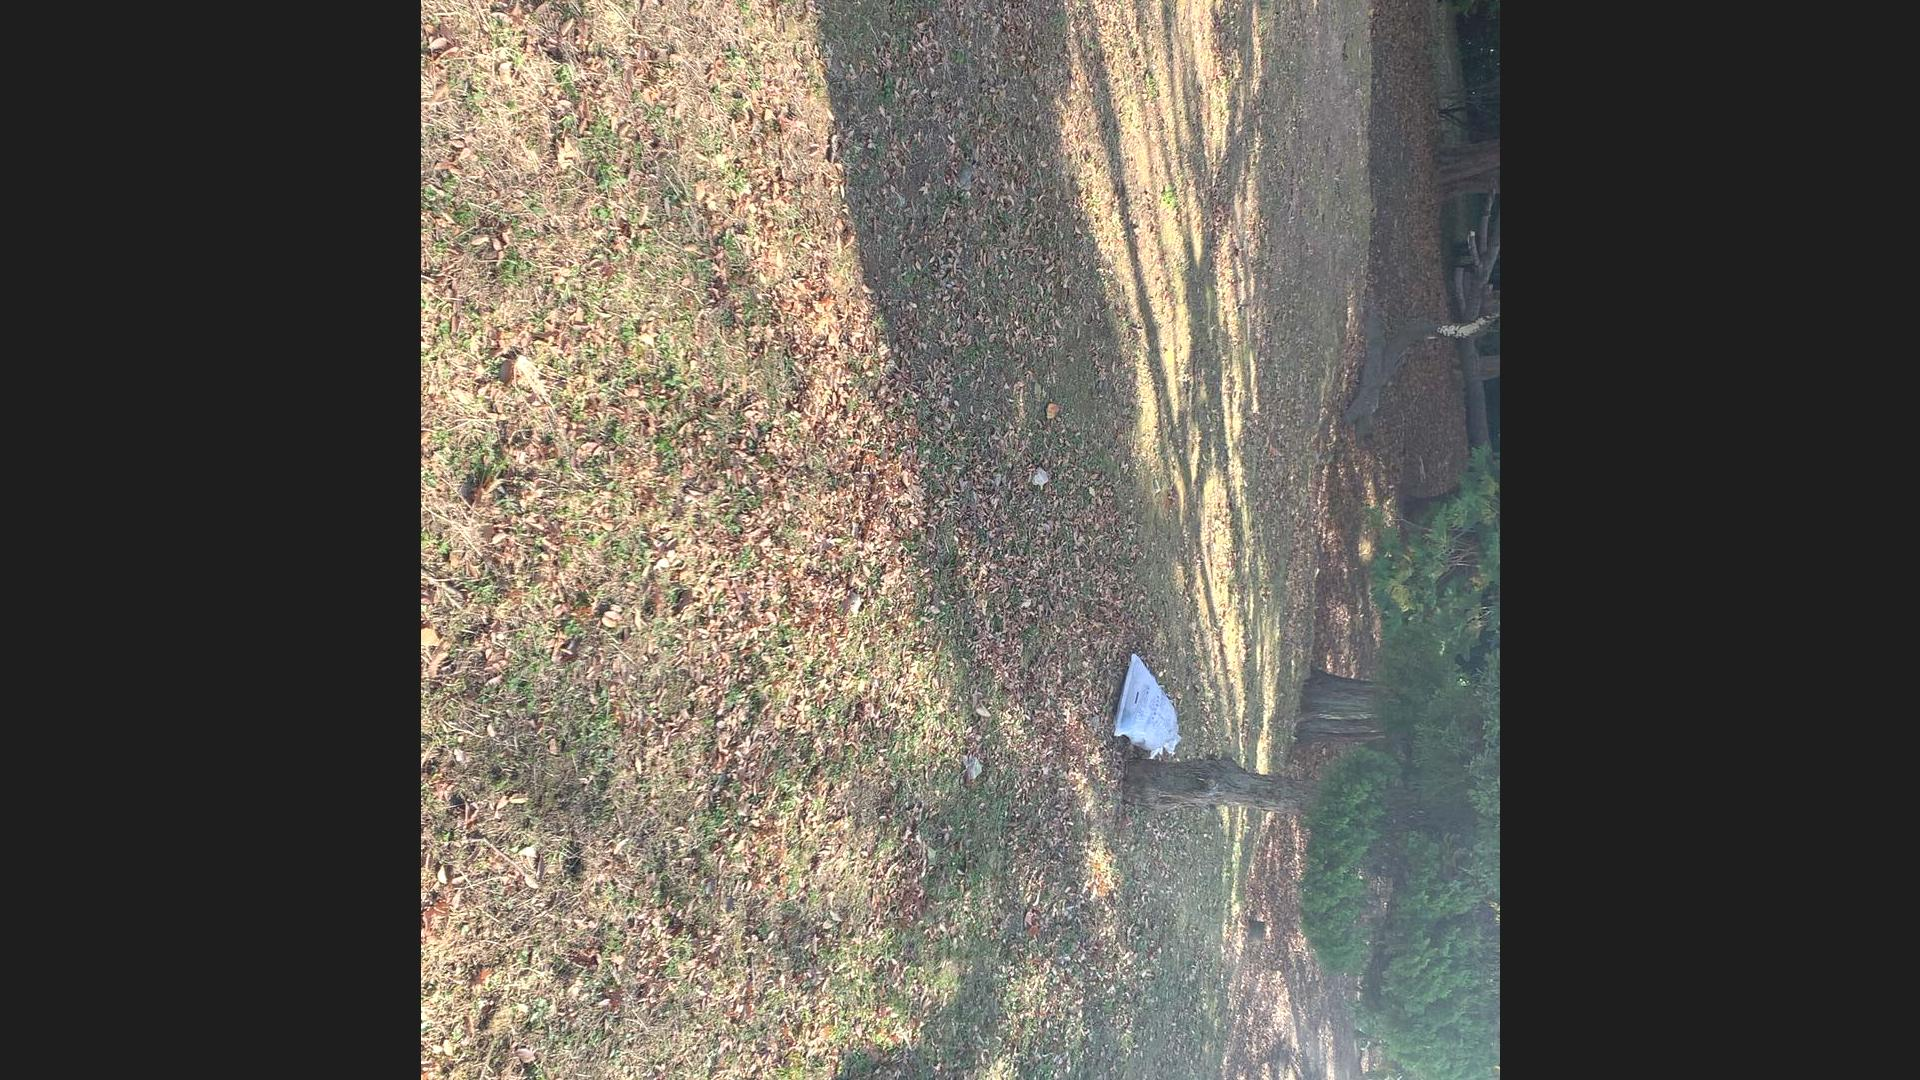white_bag: (1104, 638, 1191, 765)
